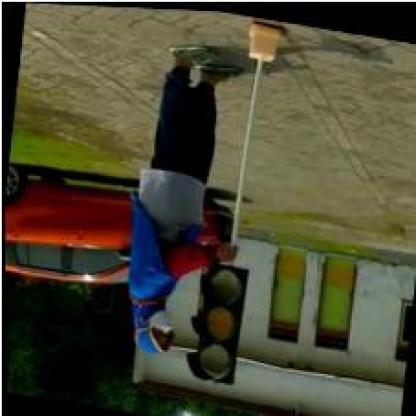yellow: (184, 258, 252, 388)
